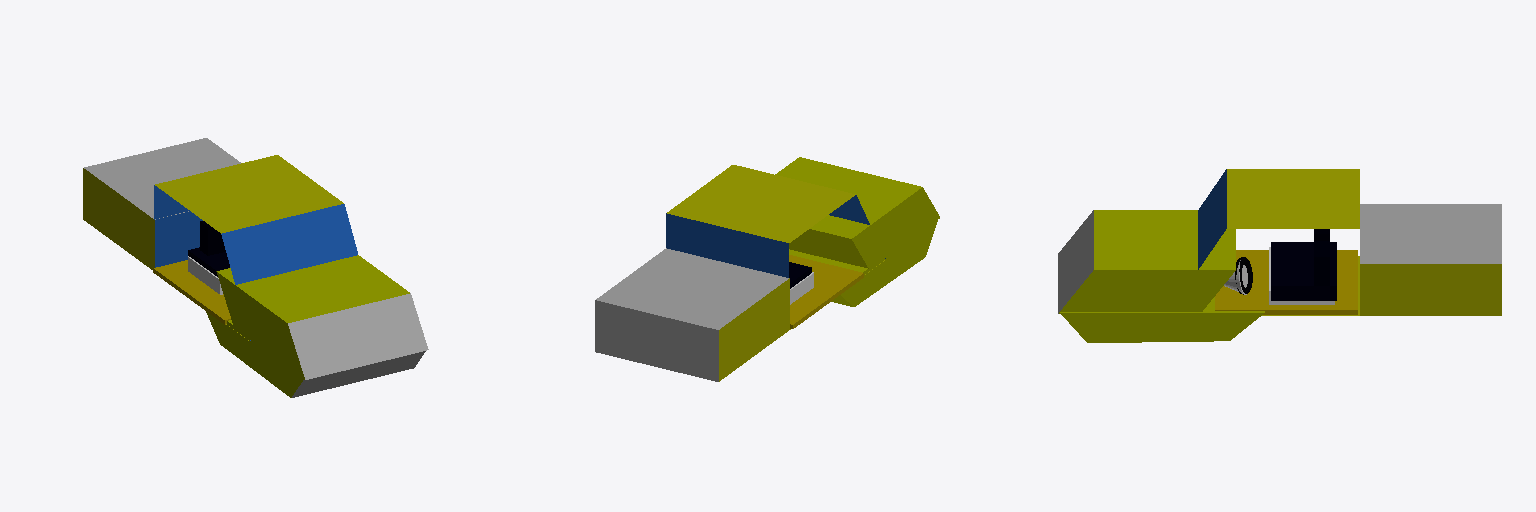
The model's file is carBody.obj.
3 views of the same model, side by side, from view 1: azimuth 30°, elevation 25°; view 2: azimuth 150°, elevation 25°; view 3: azimuth 270°, elevation 25° (orthographic).
Visible parts, largest first — view 1: Cube_Cube.001, Cube.001_Cube.002, Cube.002_Cube.000, Cube.003_Cube, Cube.010_Cube.009, Cube.006_Cube.005, Cube.005_Cube.004; view 2: Cube_Cube.001, Cube.001_Cube.002, Cube.002_Cube.000, Cube.003_Cube; view 3: Cube_Cube.001, Cube.001_Cube.002, Cube.002_Cube.000, Cube.003_Cube, Cube.006_Cube.005, Cube.009_Cube.008.
Boxes of the visible parts, <box> form: Cube_Cube.001: <box>83,138,357,340</box>; Cube.001_Cube.002: <box>216,255,428,379</box>; Cube.002_Cube.000: <box>206,312,425,397</box>; Cube.003_Cube: <box>153,260,230,324</box>; Cube.010_Cube.009: <box>200,221,225,255</box>; Cube.006_Cube.005: <box>188,247,229,276</box>; Cube.005_Cube.004: <box>188,256,222,294</box>; Cube_Cube.001: <box>595,165,885,381</box>; Cube.001_Cube.002: <box>775,157,939,269</box>; Cube.002_Cube.000: <box>789,220,937,306</box>; Cube.003_Cube: <box>789,255,863,328</box>; Cube_Cube.001: <box>1198,169,1501,315</box>; Cube.001_Cube.002: <box>1058,210,1235,313</box>; Cube.002_Cube.000: <box>1060,297,1264,342</box>; Cube.003_Cube: <box>1215,250,1357,314</box>; Cube.006_Cube.005: <box>1271,242,1336,300</box>; Cube.009_Cube.008: <box>1314,241,1329,285</box>.
Size of the model in its own units: 2.07 by 1.76 by 6.23.